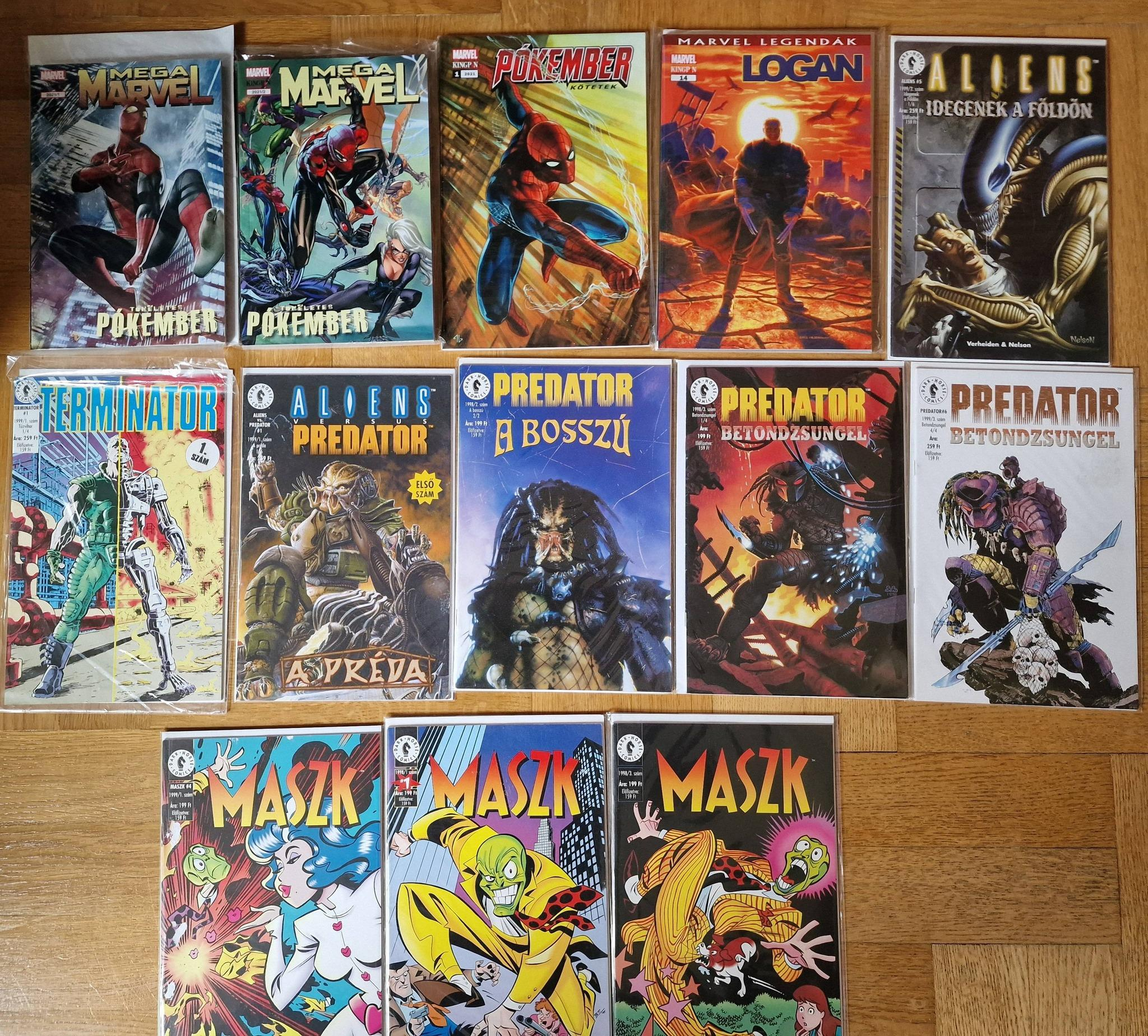comic: (905, 362, 1138, 708), (3, 362, 231, 712), (676, 360, 908, 698), (607, 711, 845, 1036), (887, 36, 1112, 363), (235, 367, 453, 702), (454, 360, 673, 692), (657, 27, 878, 351), (386, 717, 610, 1035), (158, 726, 383, 1035), (437, 32, 651, 349), (234, 51, 434, 346), (31, 51, 229, 348)
